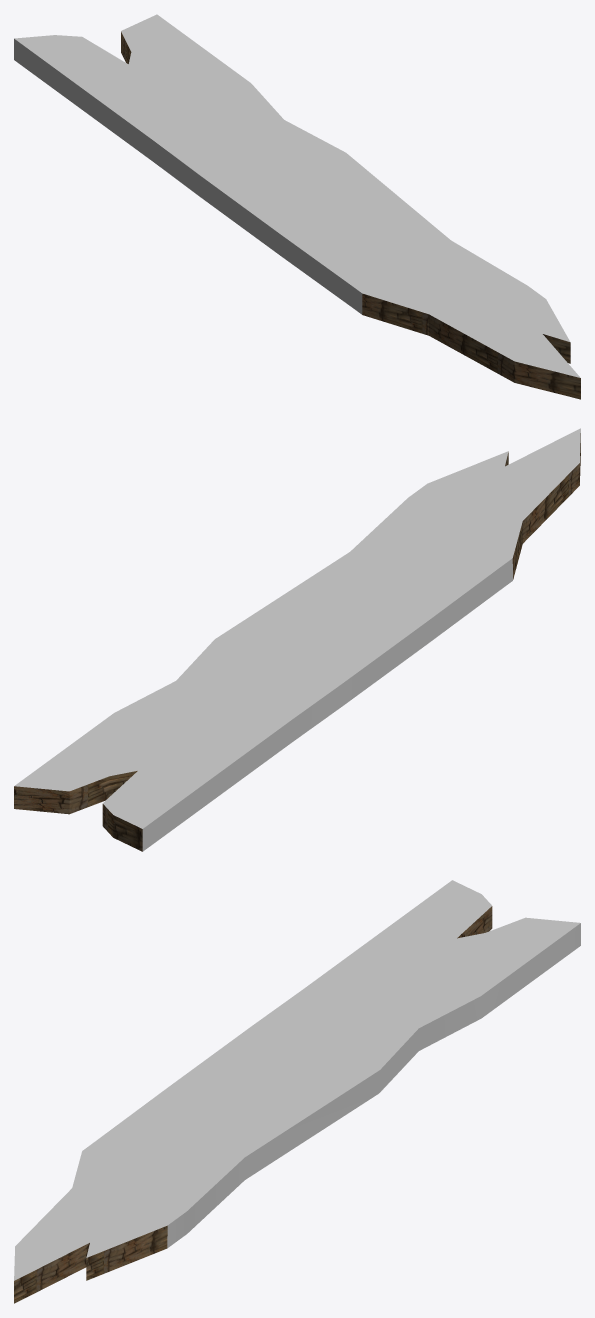
The model's file is lower_city_wood_plank_08.fbx.
The picture shows the model from 3 angles, top to bottom: view 1: azimuth 30°, elevation 25°; view 2: azimuth 150°, elevation 25°; view 3: azimuth 330°, elevation 25°; orthographic projection. The views are drawn at different scales.
Visible parts, largest first — view 1: lower_city_wood_plank_08; view 2: lower_city_wood_plank_08; view 3: lower_city_wood_plank_08.
Part boxes in pixels (bbox=[...]): lower_city_wood_plank_08: bbox=[14, 14, 580, 399]; lower_city_wood_plank_08: bbox=[14, 428, 580, 851]; lower_city_wood_plank_08: bbox=[14, 880, 580, 1303].
Size of the model in its own units: 0.4996 by 0.0772 by 3.19.
